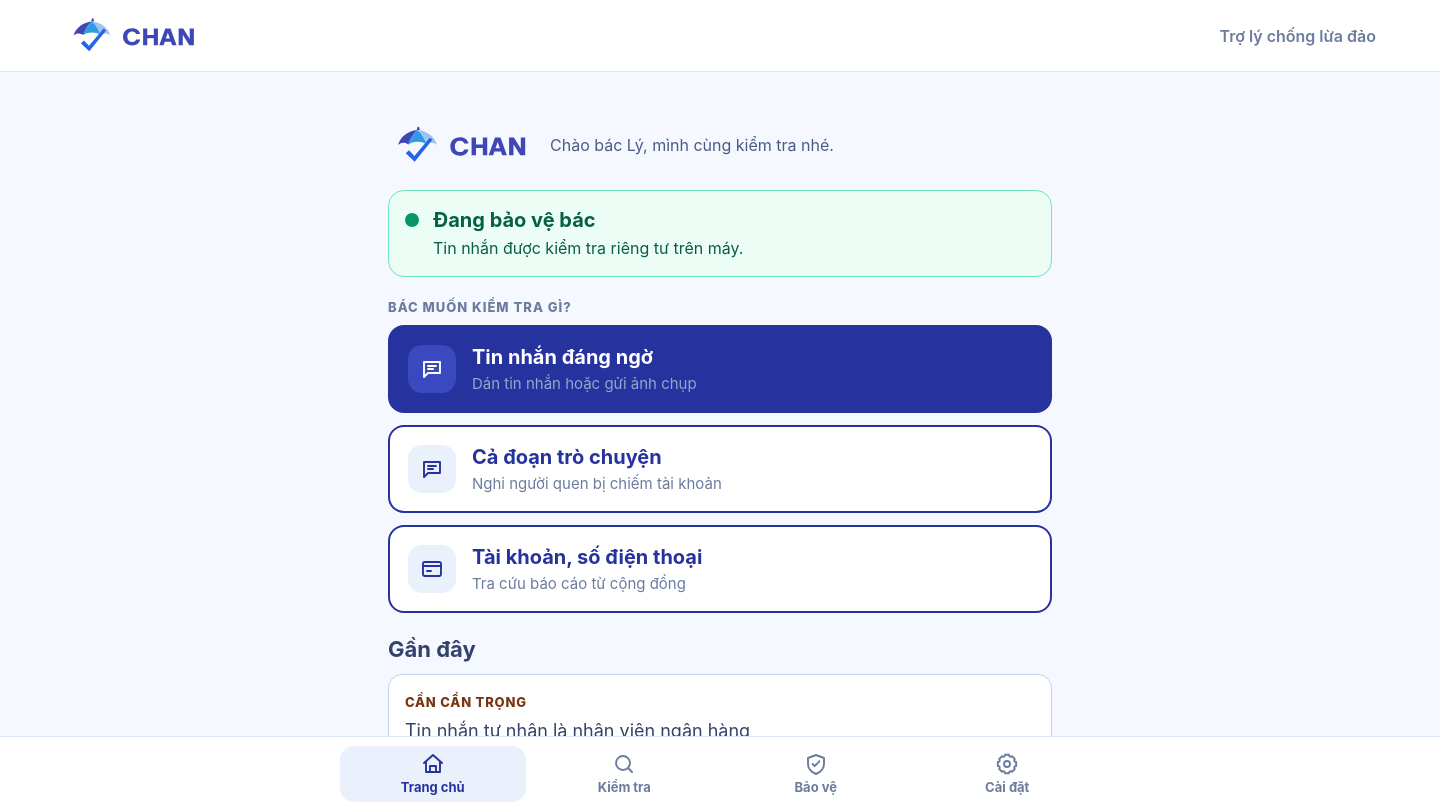
Test: CHAN web flow › supports dark mode and prototype error simulation from settings
The image size is (1440, 810).
Click the button "Cài đặt".
click(1007, 774)  # box [914,746,1100,802]
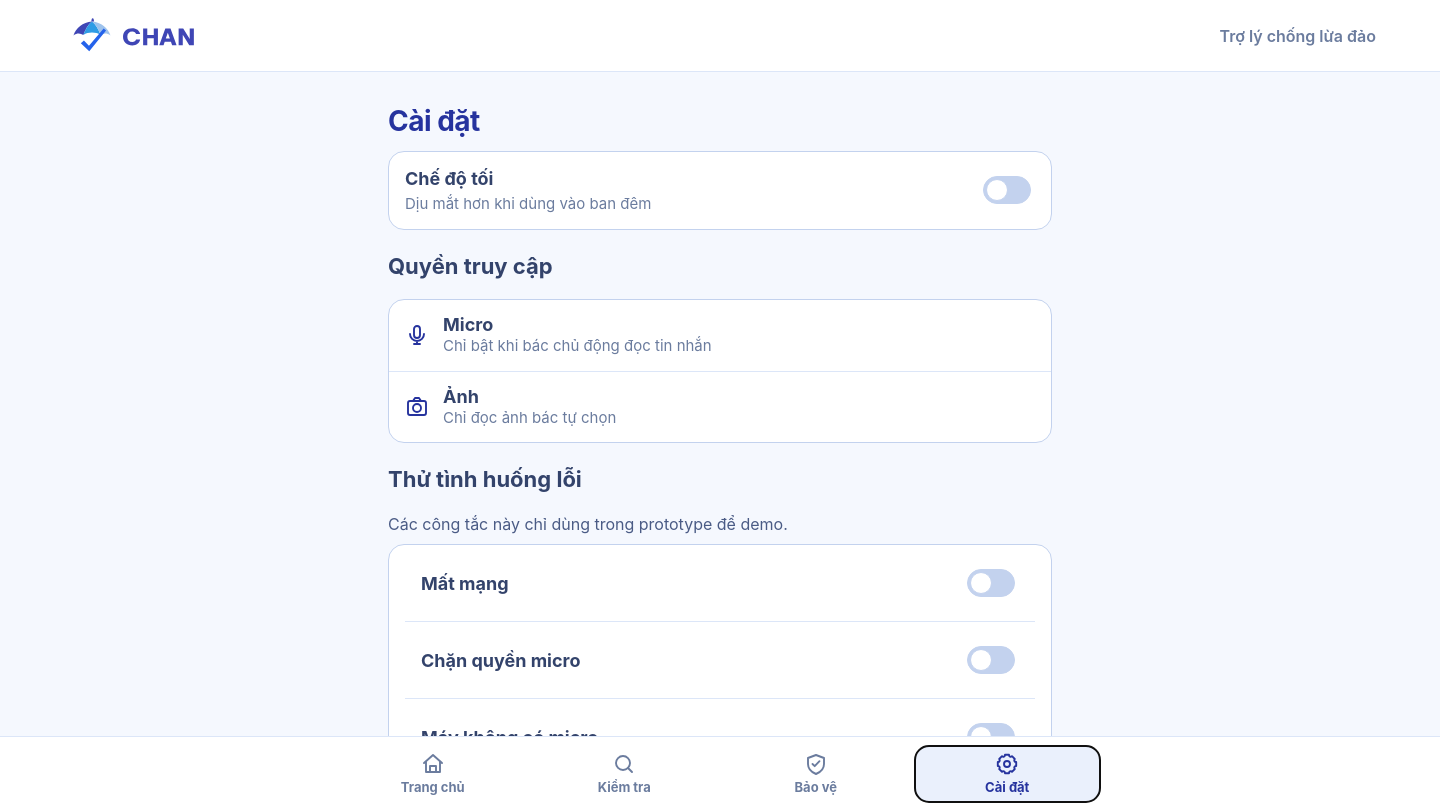
Click the switch named "Chế độ tối".
click(1007, 190)  # box [979,166,1035,214]
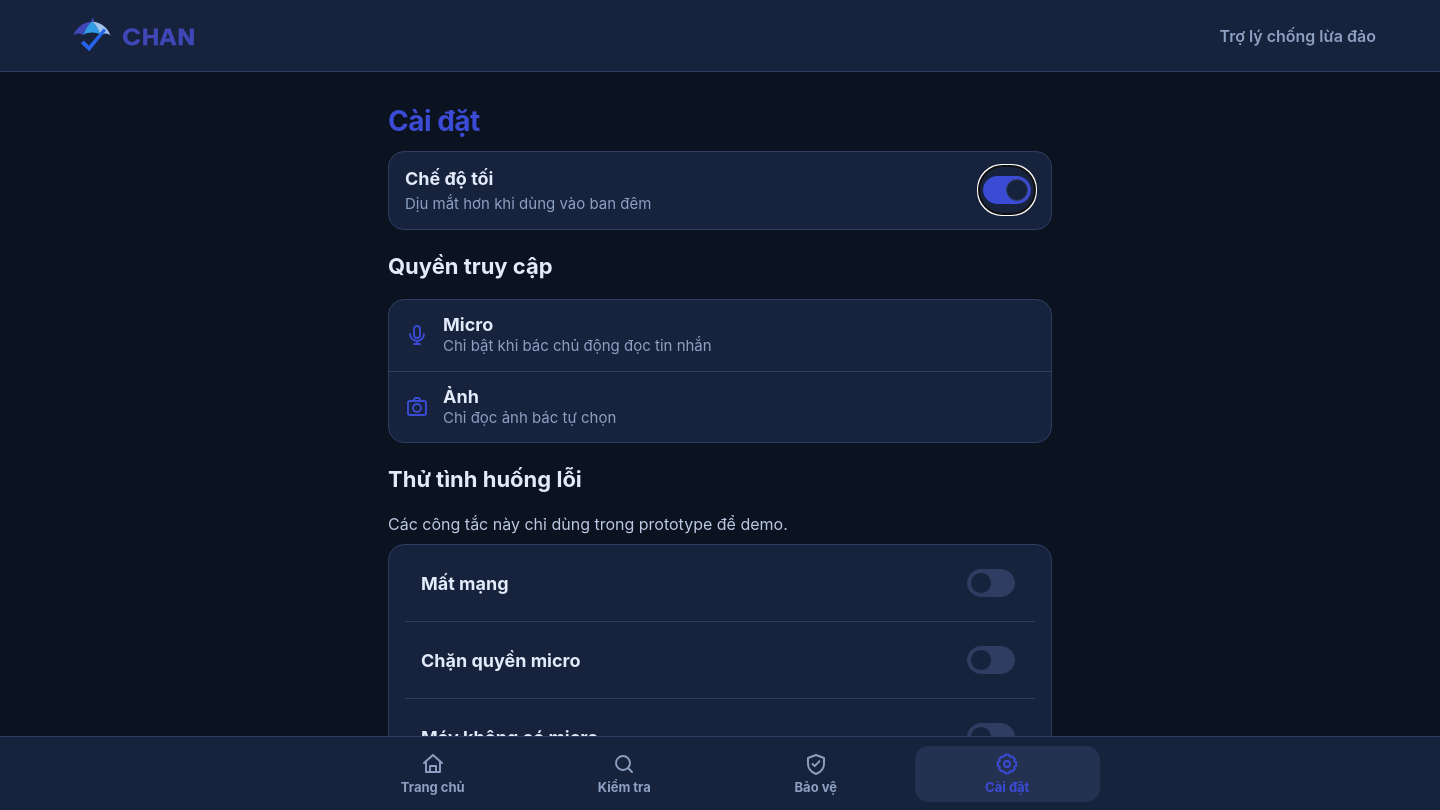
Click the switch named "Mất mạng".
click(991, 583)  # box [963,559,1019,607]
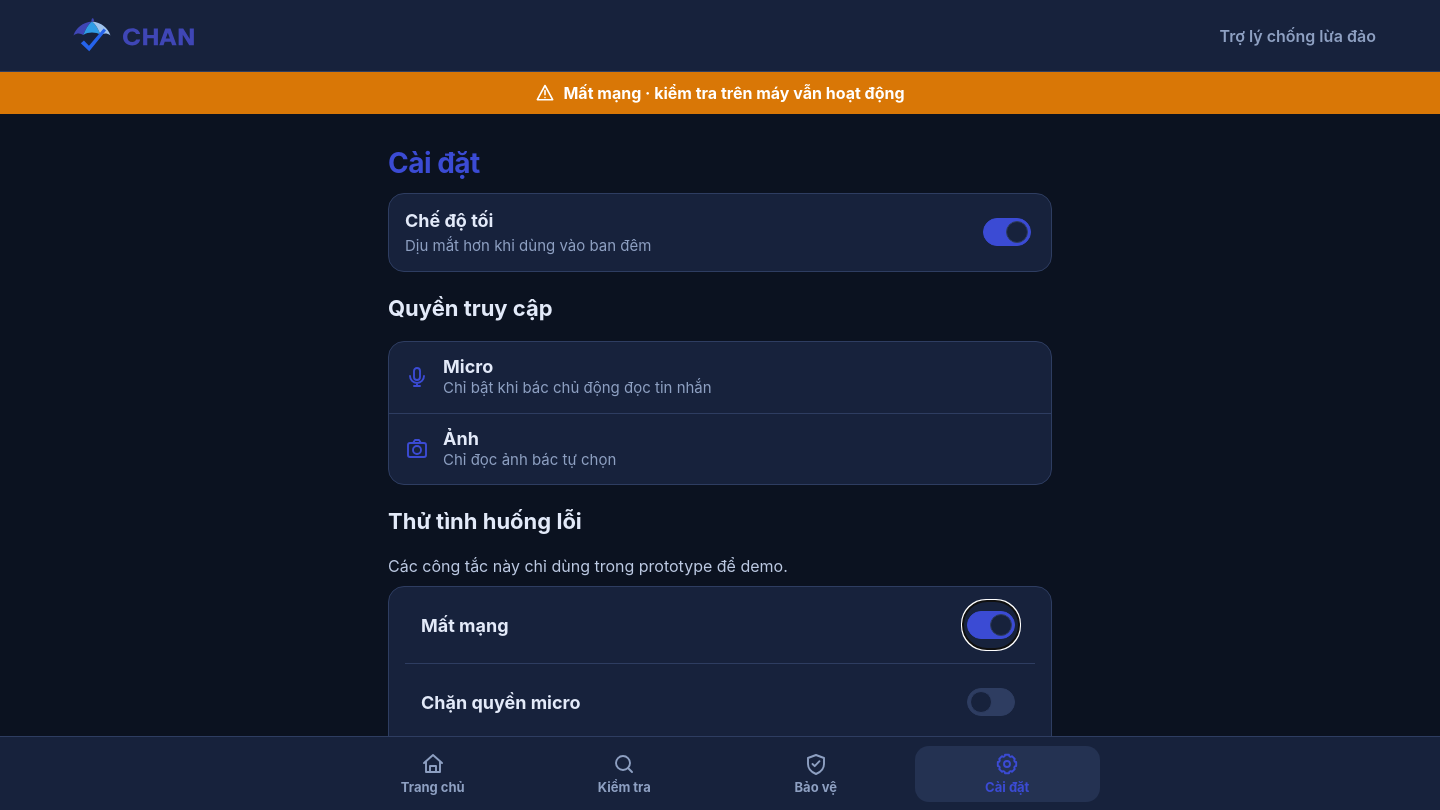
Expected: the text "Mất mạng · kiểm tra trên máy vẫn hoạt động" is shown, [0,72,1439,114]
